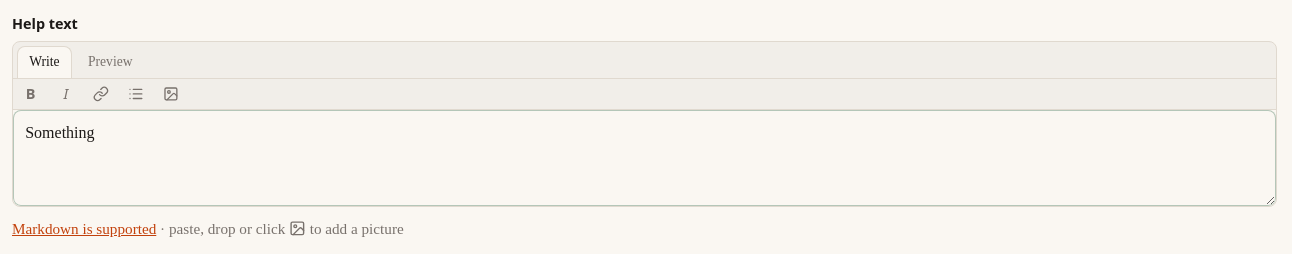
Test: MarkdownField › drops the picture half of the help line in Preview, where none of it is on screen (#719)
Expected: the text "paste, drop or click" is shown, [156, 220, 289, 237]
What coordinates should you click on to do the following:
click the tab "Preview"
I would click on:
 (110, 62)
Its box is [76, 46, 145, 78].
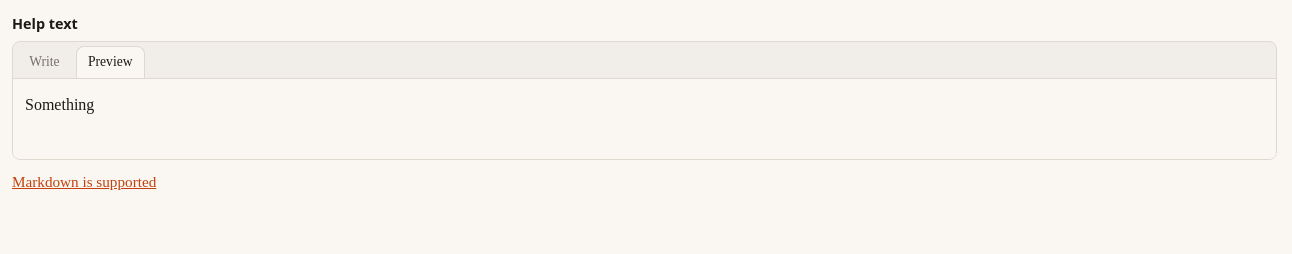
Expected: the link "Markdown is supported" is shown, [12, 173, 156, 190]
Now the text "paste, drop or click" is gone
